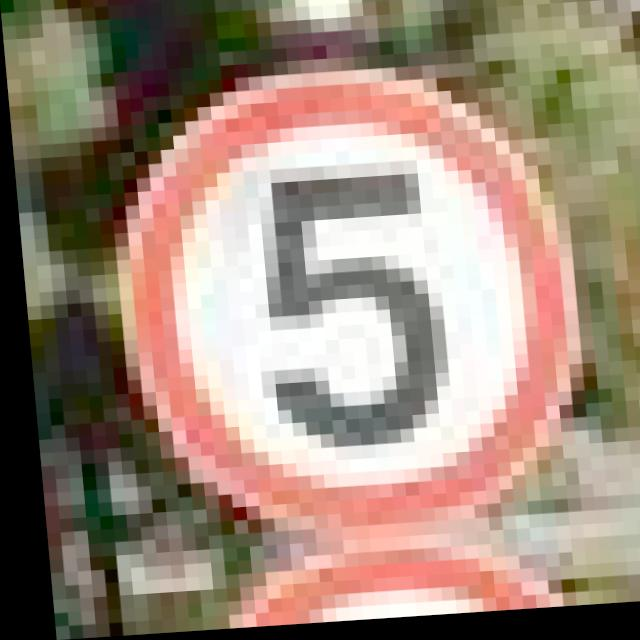SPEED_LIMIT_5: (98, 51, 590, 550)
